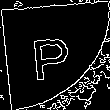P_N: (32, 28, 78, 82)
